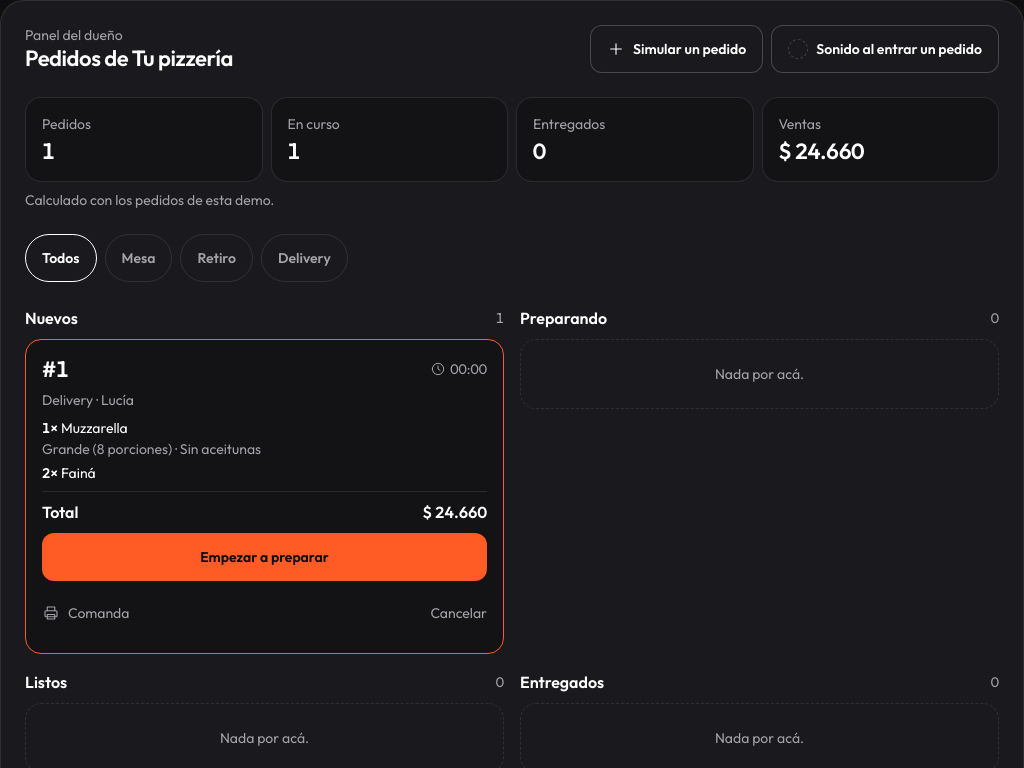
Test: PanelDuenio + DemoCliente: sincronización cliente ↔ dueño › la comanda se abre en una hoja, sin precios
Click the button with aria-label "Ver la comanda del pedido #1": {"x": 86, "y": 613} [34, 589, 137, 637]
(page scrolled)
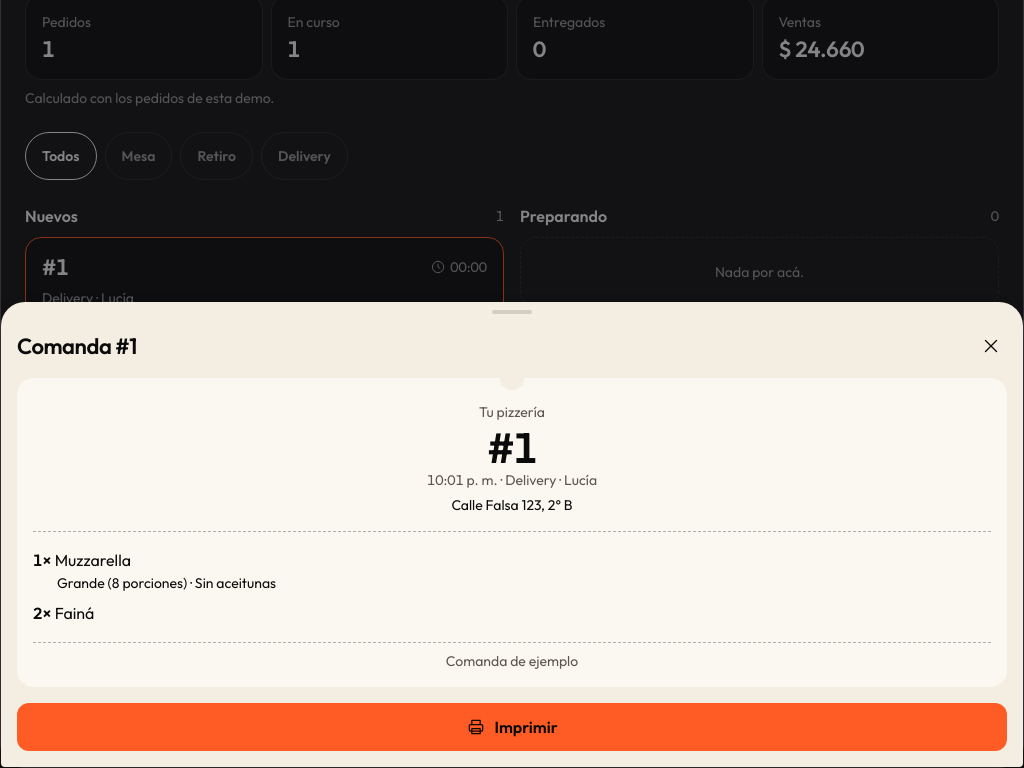
Result: the dialog "Comanda #1" shows "Muzzarella" at [55, 550, 131, 570]
Result: the button "Imprimir" is shown at [17, 703, 1007, 751]
